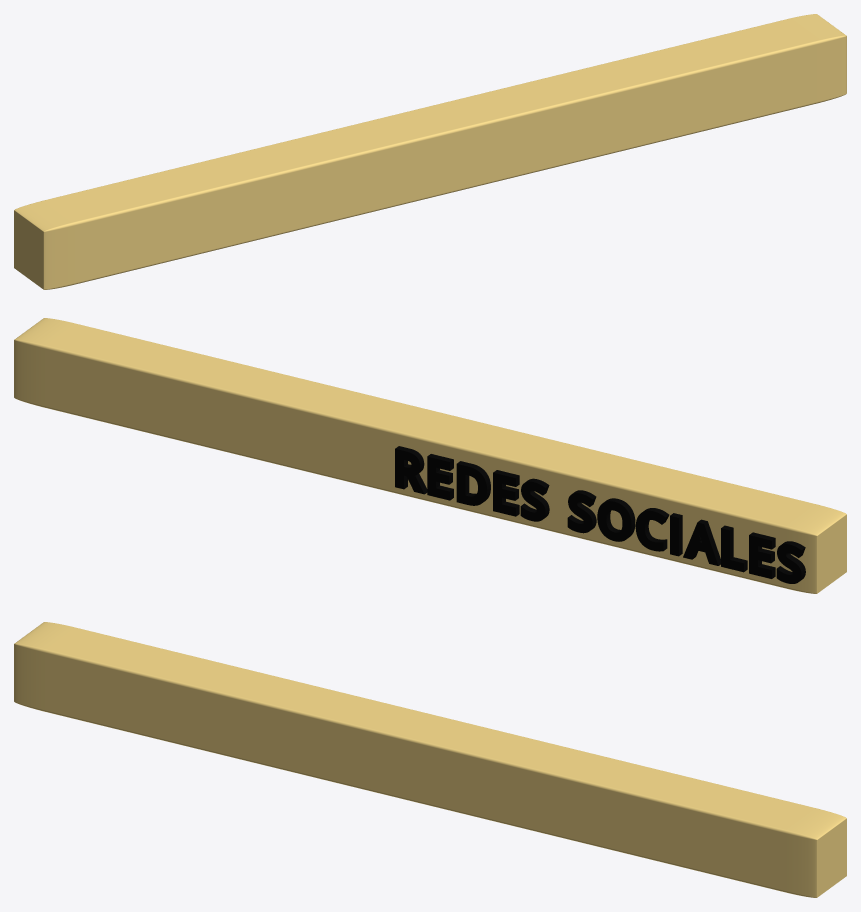
Rendered from redes.glb.
3 views of the same model, one above another, from view 1: azimuth 30°, elevation 25°; view 2: azimuth 150°, elevation 25°; view 3: azimuth 330°, elevation 25° (orthographic).
Parts seen in each view (by area): view 1: Box; view 2: Box, 3D Text - E (×3), 3D Text - S (×3), 3D Text - D, 3D Text - O, 3D Text - R, 3D Text - A, 3D Text - C, 3D Text - L, 3D Text - I; view 3: Box.
Boxes of the visible parts, x1,y1,x2,y2 form: Box: (14,14,846,289); Box: (14,318,846,593); 3D Text - E (×3): (427,454,775,578); 3D Text - S (×3): (520,478,805,583); 3D Text - D: (456,461,490,505); 3D Text - O: (597,498,635,541); 3D Text - R: (395,446,427,494); 3D Text - A: (683,519,720,565); 3D Text - C: (635,508,669,551); 3D Text - L: (721,525,747,572); 3D Text - I: (670,513,682,556); Box: (14,622,846,897).
Size of the model in its own units: 1.45 by 0.1081 by 0.1119.
